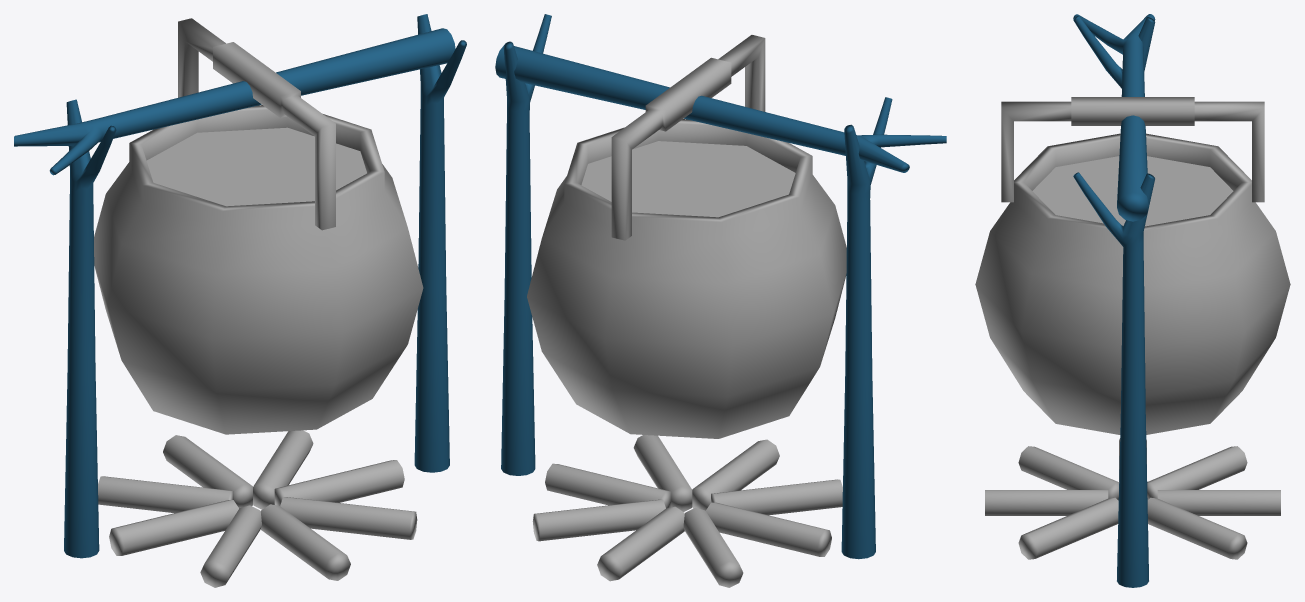
File: Pot.fbx
3 views of the same model, side by side, from view 1: azimuth 30°, elevation 25°; view 2: azimuth 150°, elevation 25°; view 3: azimuth 270°, elevation 25° (orthographic). The views are drawn at different scales.
Visible parts, largest first — view 1: Pot, Stick3, Stick1, Soup, Stick2, Handle, Wood5, Wood8, Wood4, Wood1, Wood9, Wood3 (+2 smaller); view 2: Pot, Stick3, Stick1, Soup, Stick2, Handle, Wood5, Wood2, Wood6, Wood1, Wood3, Wood9 (+2 smaller); view 3: Pot, Stick1, Handle, Soup, Stick2, Wood8, Wood2, Wood3, Wood9, Wood6, Wood4, Stick3.
Part boxes in pixels (left/top/right/bottom): Pot: left=94, top=105, right=423, bottom=434; Stick3: left=64, top=99, right=116, bottom=558; Stick1: left=414, top=14, right=466, bottom=472; Soup: left=146, top=127, right=366, bottom=206; Stick2: left=14, top=28, right=455, bottom=175; Handle: left=178, top=18, right=335, bottom=230; Wood5: left=109, top=500, right=238, bottom=555; Wood8: left=280, top=497, right=417, bottom=539; Wood4: left=98, top=476, right=233, bottom=513; Wood1: left=274, top=460, right=404, bottom=505; Wood9: left=260, top=504, right=350, bottom=580; Wood3: left=163, top=435, right=252, bottom=508; Pot: left=527, top=119, right=846, bottom=438; Stick3: left=841, top=97, right=892, bottom=559; Stick1: left=501, top=14, right=551, bottom=475; Soup: left=581, top=141, right=795, bottom=217; Stick2: left=495, top=45, right=946, bottom=172; Handle: left=611, top=35, right=765, bottom=240; Wood5: left=706, top=502, right=831, bottom=556; Wood2: left=532, top=499, right=665, bottom=541; Wood6: left=711, top=479, right=842, bottom=515; Wood1: left=545, top=463, right=671, bottom=508; Wood3: left=597, top=506, right=684, bottom=581; Wood9: left=692, top=439, right=779, bottom=510; Pot: left=975, top=133, right=1290, bottom=434; Stick1: left=1073, top=172, right=1154, bottom=587; Handle: left=1001, top=97, right=1264, bottom=202; Soup: left=1032, top=156, right=1233, bottom=226; Stick2: left=1073, top=14, right=1155, bottom=221; Wood8: left=1018, top=497, right=1118, bottom=559; Wood2: left=1147, top=497, right=1247, bottom=559; Wood3: left=1157, top=490, right=1280, bottom=515; Wood9: left=985, top=490, right=1108, bottom=515; Wood6: left=1018, top=446, right=1119, bottom=500; Wood4: left=1147, top=446, right=1247, bottom=499; Stick3: left=1073, top=16, right=1155, bottom=88.
Bounding box in the file's own units: 7.31 × 7.53 × 5.11.
